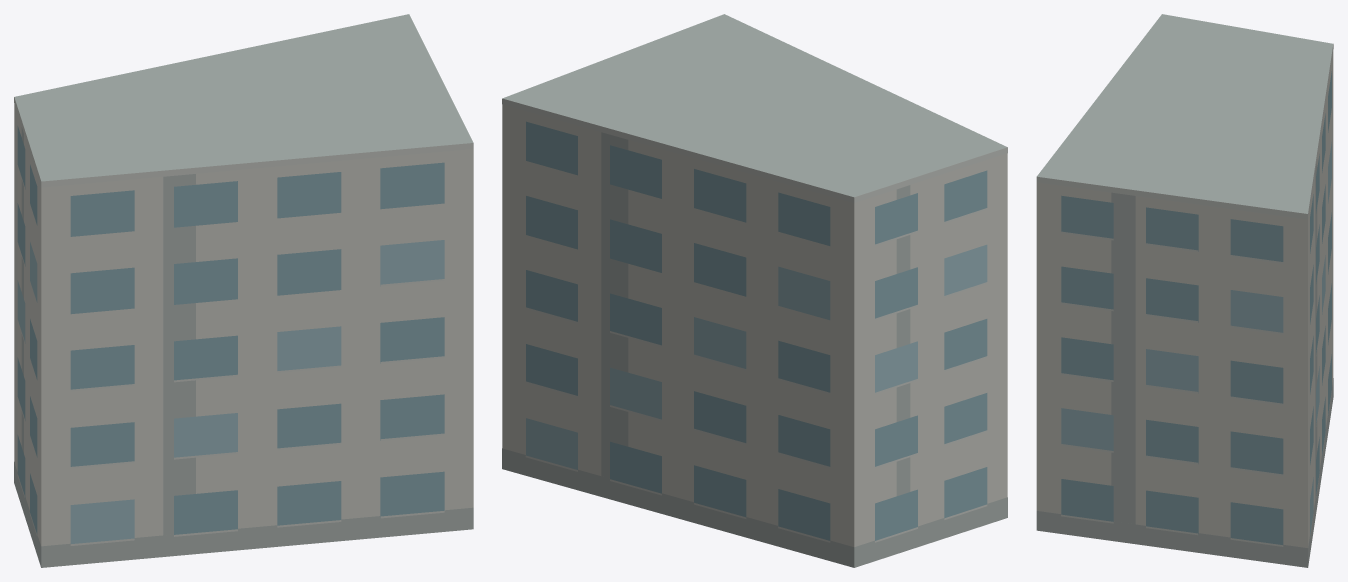
Rendered from residential-35478204-f58e-404d-861b-d6f7f4143862.glb.
The picture shows the model from 3 angles, left to right: view 1: azimuth 30°, elevation 25°; view 2: azimuth 150°, elevation 25°; view 3: azimuth 270°, elevation 25°; orthographic projection. The views are drawn at different scales.
Visible parts, largest first — view 1: residential-35478204-f58e-404d-861b-d6f7f4143862.tmp; view 2: residential-35478204-f58e-404d-861b-d6f7f4143862.tmp; view 3: residential-35478204-f58e-404d-861b-d6f7f4143862.tmp.
Part boxes in pixels (x1,y1,x2,y2): residential-35478204-f58e-404d-861b-d6f7f4143862.tmp: (14,14,473,567); residential-35478204-f58e-404d-861b-d6f7f4143862.tmp: (502,14,1007,567); residential-35478204-f58e-404d-861b-d6f7f4143862.tmp: (1036,14,1333,567).
Bounding box in the file's own units: 18.49 × 15.25 × 11.6.
